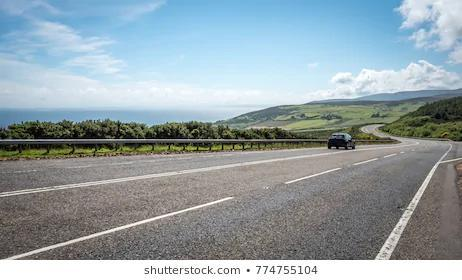car: (322, 125, 362, 158)
cloud: (322, 0, 462, 91)
language: (137, 259, 320, 280)
